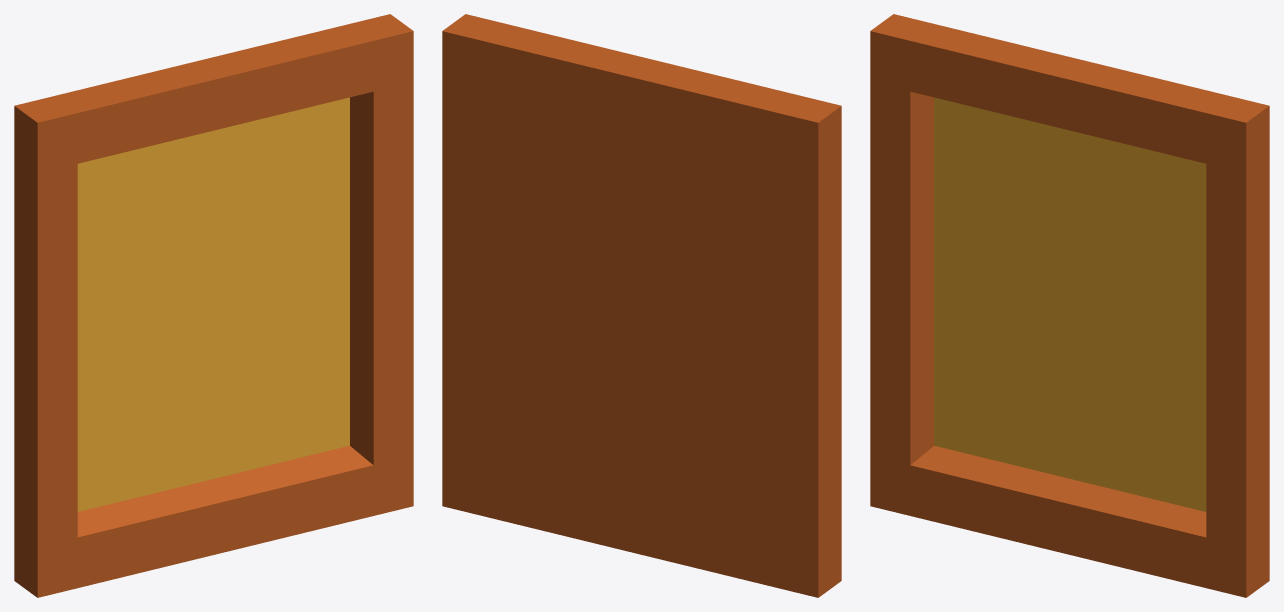
Rendered from pictureFrame.fbx.
The picture shows the model from 3 angles, left to right: view 1: azimuth 30°, elevation 25°; view 2: azimuth 150°, elevation 25°; view 3: azimuth 330°, elevation 25°; orthographic projection.
Parts seen in each view (by area): view 1: pictureFrame; view 2: pictureFrame; view 3: pictureFrame.
Boxes of the visible parts, x1,y1,x2,y2 form: pictureFrame: [14, 14, 413, 597]; pictureFrame: [442, 14, 841, 597]; pictureFrame: [870, 14, 1269, 597].
Size of the model in its own units: 131 by 158 by 14.11.
